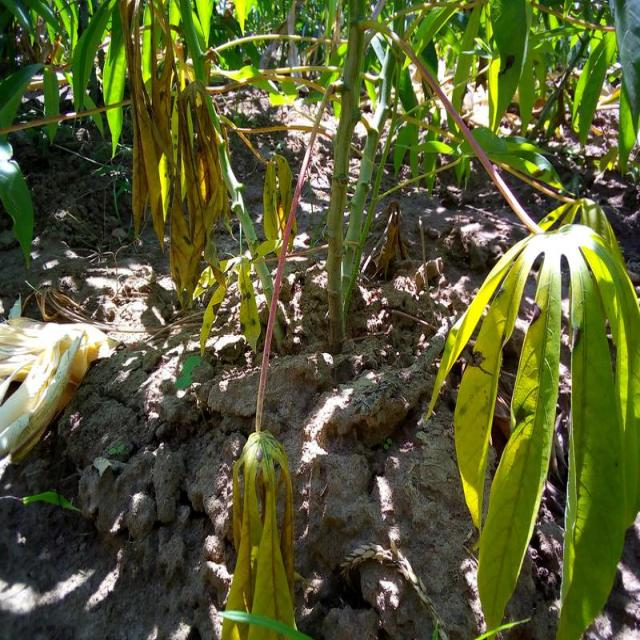cassava leaf: (427, 198, 640, 638)
